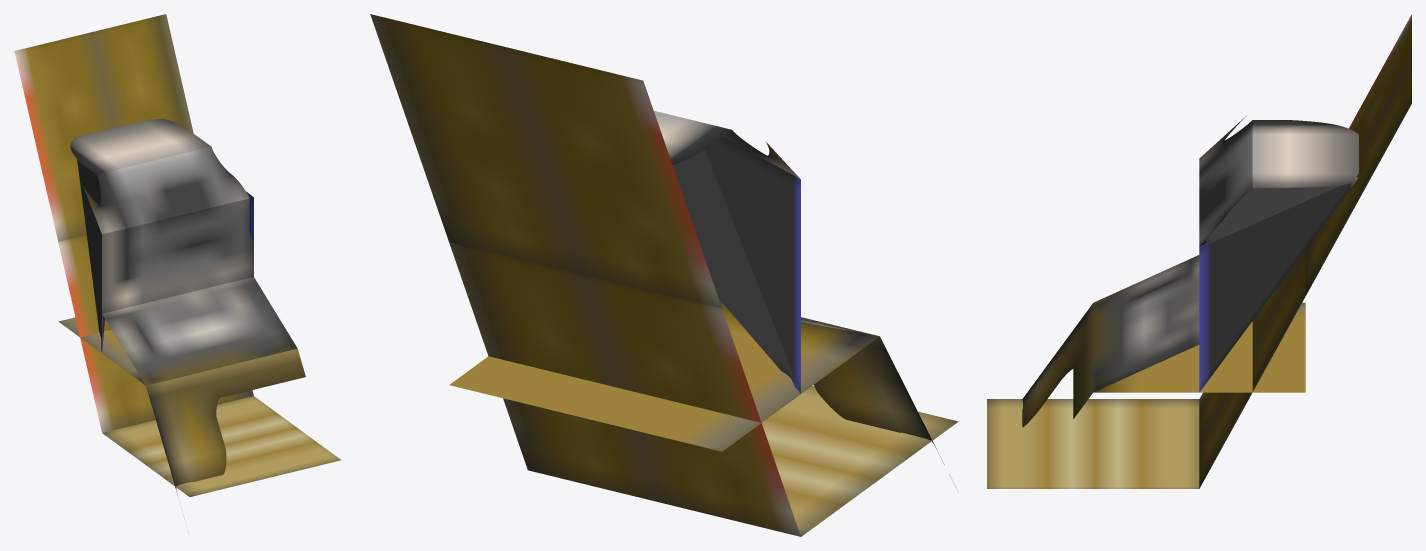
Rendered from tile_indoors_computer_1.obj.
3 renders of one model, left to right at view 1: azimuth 30°, elevation 25°; view 2: azimuth 150°, elevation 25°; view 3: azimuth 270°, elevation 25°, orthographic. The views are drawn at different scales.
Parts seen in each view (by area): view 1: Default; view 2: Default; view 3: Default.
Boxes of the visible parts, x1=… form: Default: x1=14, y1=14, x2=341, y2=496; Default: x1=370, y1=14, x2=958, y2=536; Default: x1=987, y1=14, x2=1411, y2=488.
Bounding box in the file's own units: 1 × 2.25 × 2.
